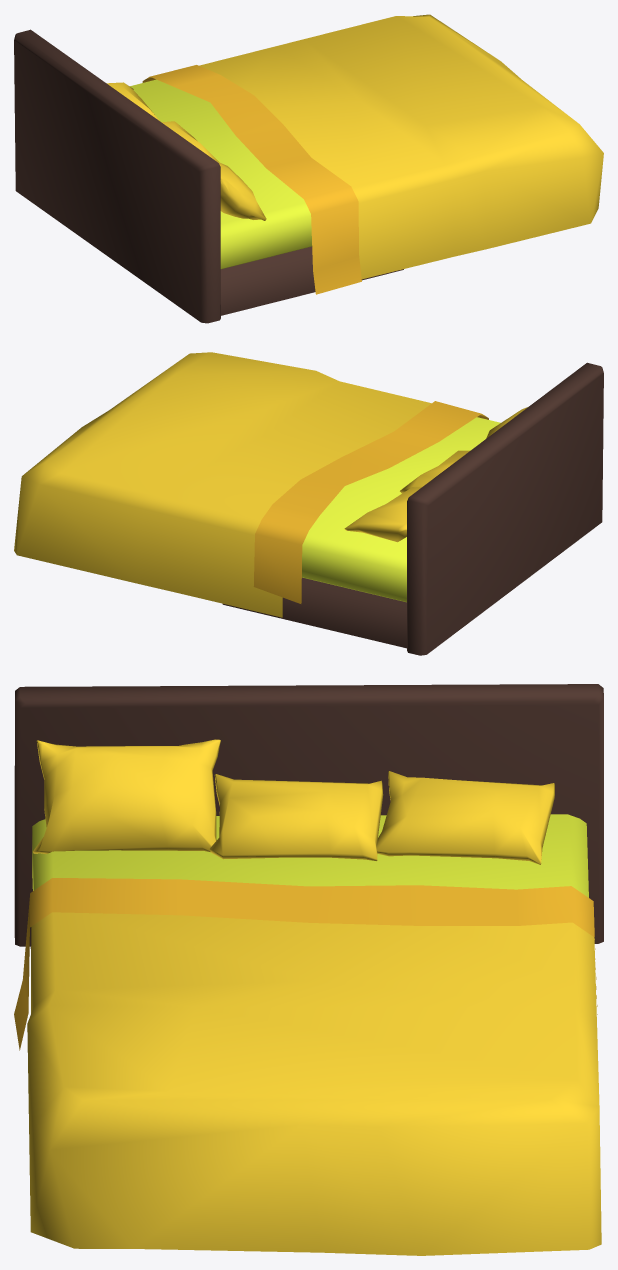
Rendered from Bed2.fbx.
3 views of the same model, one above another, from view 1: azimuth 30°, elevation 25°; view 2: azimuth 150°, elevation 25°; view 3: azimuth 270°, elevation 25° (orthographic). The views are drawn at different scales.
Parts seen in each view (by area): view 1: Bed2; view 2: Bed2; view 3: Bed2.
Boxes of the visible parts, x1,y1,x2,y2 form: Bed2: (14,14,603,323); Bed2: (14,352,603,655); Bed2: (14,684,603,1255).
Size of the model in its own units: 84.22 by 29.56 by 63.56.
